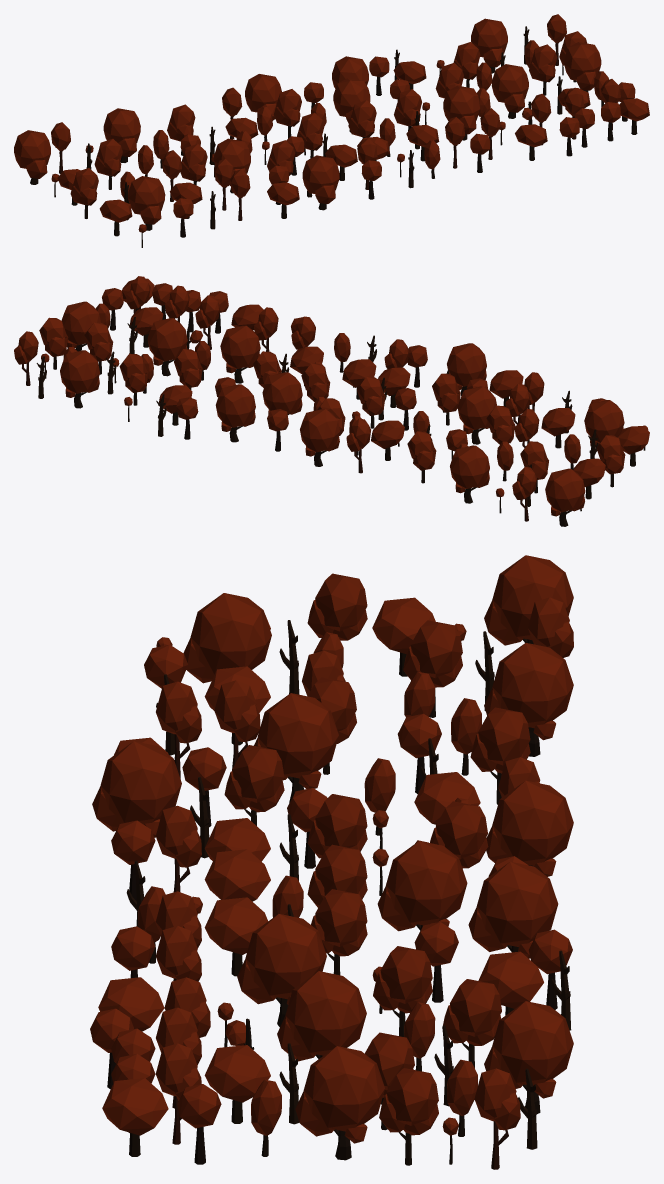
Rendered from forst.obj.
3 renders of one model, top to bottom at view 1: azimuth 30°, elevation 25°; view 2: azimuth 150°, elevation 25°; view 3: azimuth 270°, elevation 25°, orthographic. The views are drawn at different scales.
Parts seen in each view (by area): view 1: Icosphere.081, Icosphere.007_Icosphere.010, Icosphere.083, Icosphere.084, Icosphere.076, Icosphere.008_Icosphere.000, Icosphere.085, Icosphere.079, Icosphere.082, Icosphere.077, Icosphere.080, Icosphere.045 (+46 smaller); view 2: Icosphere.083, Icosphere.082, Icosphere.085, Icosphere.008_Icosphere.000, Icosphere.078, Icosphere.079, Icosphere.007_Icosphere.010, Icosphere.077, Icosphere.080, Icosphere.081, Icosphere.084, Icosphere.076 (+44 smaller); view 3: Icosphere.076, Icosphere.078, Icosphere.077, Icosphere.082, Icosphere.081, Icosphere.007_Icosphere.010, Icosphere.008_Icosphere.000, Icosphere.079, Icosphere.084, Icosphere.085, Icosphere.080, Icosphere.083 (+55 smaller).
Part boxes in pixels (x1,y1,x2,y2): Icosphere.081: (302,155,339,203); Icosphere.007_Icosphere.010: (491,64,528,112); Icosphere.083: (14,130,50,178); Icosphere.084: (128,176,165,224); Icosphere.076: (564,42,601,90); Icosphere.008_Icosphere.000: (471,18,507,67); Icosphere.085: (103,108,140,156); Icosphere.079: (443,85,480,134); Icosphere.082: (245,74,281,120); Icosphere.077: (333,78,370,123); Icosphere.080: (214,138,250,186); Icosphere.045: (348,100,376,137); Icosphere.083: (545,468,585,516); Icosphere.082: (300,409,339,456); Icosphere.085: (450,445,489,493); Icosphere.008_Icosphere.000: (60,350,99,397); Icosphere.078: (215,384,255,431); Icosphere.079: (220,325,260,373); Icosphere.007_Icosphere.010: (147,318,187,365); Icosphere.077: (262,372,302,414); Icosphere.080: (457,386,496,434); Icosphere.081: (447,343,486,390); Icosphere.084: (584,400,624,447); Icosphere.076: (61,301,100,348); Icosphere.076: (295,1046,384,1143); Icosphere.078: (468,861,558,958); Icosphere.077: (377,841,467,931); Icosphere.082: (486,780,573,876); Icosphere.081: (92,741,181,837); Icosphere.007_Icosphere.010: (277,971,366,1061); Icosphere.008_Icosphere.000: (484,1001,573,1098); Icosphere.079: (237,914,326,1004); Icosphere.084: (183,593,271,683); Icosphere.085: (484,643,573,740); Icosphere.080: (254,693,338,788); Icosphere.083: (484,555,573,645).
Size of the model in its own units: 171 by 16.27 by 66.13.
